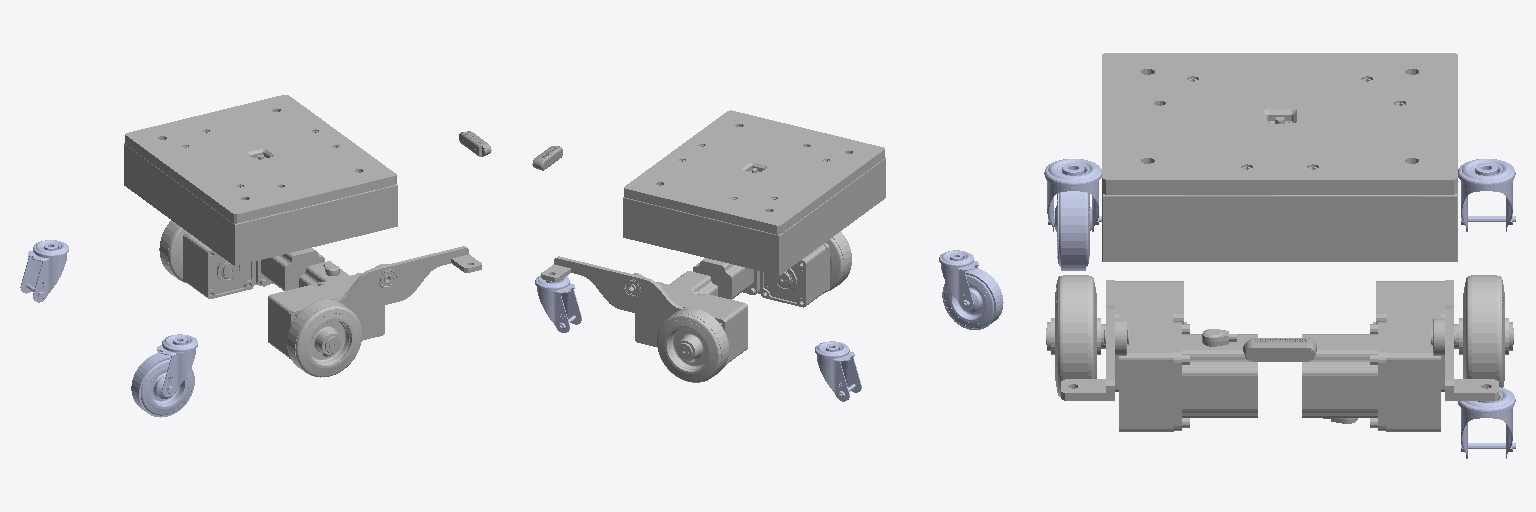
--- Facts derived from the render (not from the file) ---
3 views of the same robot in one strip: view 1: azimuth 30°, elevation 25°; view 2: azimuth 150°, elevation 25°; view 3: azimuth 270°, elevation 25° (orthographic).
Model smr100l_description with 18 links and 17 joints (2 revolute, 10 continuous, 1 prismatic, 4 fixed), rooted at base_link, posed all joints at 0.
Links seen in each view (by area): view 1: lifter_link, swing_arm_right_link, swing_arm_left_link, wheel_right_link, caster_rear_left_arm_link, caster_rear_left_wheel_link, caster_rear_right_arm_link, wheel_left_link; view 2: lifter_link, swing_arm_left_link, swing_arm_right_link, wheel_left_link, caster_rear_left_arm_link, caster_front_left_arm_link, caster_rear_right_arm_link, caster_rear_left_wheel_link, caster_rear_right_wheel_link, wheel_right_link; view 3: lifter_link, swing_arm_left_link, swing_arm_right_link, wheel_right_link, wheel_left_link, caster_rear_left_arm_link, caster_rear_right_arm_link, caster_rear_left_wheel_link, caster_front_left_arm_link, depthcam_link.
Boxes of the visible links, <box> form: lifter_link: <box>124,95,397,265</box>; swing_arm_right_link: <box>268,246,481,358</box>; swing_arm_left_link: <box>183,232,324,298</box>; wheel_right_link: <box>287,300,361,377</box>; caster_rear_left_arm_link: <box>20,240,68,302</box>; caster_rear_left_wheel_link: <box>131,352,194,417</box>; caster_rear_right_arm_link: <box>157,334,197,396</box>; wheel_left_link: <box>159,220,186,282</box>; lifter_link: <box>623,110,885,275</box>; swing_arm_left_link: <box>541,256,747,365</box>; swing_arm_right_link: <box>693,243,829,307</box>; wheel_left_link: <box>657,308,728,382</box>; caster_rear_left_arm_link: <box>815,341,861,401</box>; caster_front_left_arm_link: <box>535,275,581,332</box>; caster_rear_right_arm_link: <box>939,250,978,310</box>; caster_rear_left_wheel_link: <box>942,267,1003,328</box>; caster_rear_right_wheel_link: <box>942,269,1002,329</box>; wheel_right_link: <box>825,231,851,291</box>; lifter_link: <box>1102,53,1457,261</box>; swing_arm_left_link: <box>1302,280,1513,431</box>; swing_arm_right_link: <box>1046,280,1257,431</box>; wheel_right_link: <box>1051,275,1100,396</box>; wheel_left_link: <box>1459,275,1508,387</box>; caster_rear_left_arm_link: <box>1458,159,1515,231</box>; caster_rear_right_arm_link: <box>1044,159,1101,231</box>; caster_rear_left_wheel_link: <box>1054,191,1091,270</box>; caster_front_left_arm_link: <box>1458,387,1515,458</box>; depthcam_link: <box>1243,338,1316,361</box>.
Bounding box of the posed robot: 0.9171 × 0.57 × 0.3688 m (x, y, z).
Meshes: 18 distinct files referenced, 12 mesh visuals loaded (12 binary STL); not drawn: 6 (reference not matched to a file when rendering).

The robot description file, URDF, robot "smr100l_description":
<?xml version="1.0" encoding="utf-8"?>
<!-- This URDF was automatically created by SolidWorks to URDF Exporter! Originally created by Stephen Brawner ([email redacted]) 
     Commit Version: 1.5.1-0-g916b5db  Build Version: 1.5.7152.31018
     For more information, please see http://wiki.ros.org/sw_urdf_exporter -->
<robot
  name="smr100l_description">
  <link
    name="base_link">
    <inertial>
      <origin
        xyz="0.00759473196950907 -0.000701025729209086 0.207930392353386"
        rpy="0 0 0" />
      <mass
        value="28.1550787286733" />
      <inertia
        ixx="0.694735350757739"
        ixy="-6.21396000769804E-05"
        ixz="-0.293894422173057"
        iyy="2.10954451452673"
        iyz="-0.00299922708479352"
        izz="2.29931755100392" />
    </inertial>
    <visual>
      <origin
        xyz="0 0 0"
        rpy="0 0 0" />
      <geometry>
        <mesh
          filename="package://smr100l_description/meshes/base_link.STL" />
      </geometry>
      <material
        name="">
        <color
          rgba="0.792156862745098 0.819607843137255 0.933333333333333 1" />
      </material>
    </visual>
    <collision>
      <origin
        xyz="0 0 0"
        rpy="0 0 0" />
      <geometry>
        <mesh
          filename="package://smr100l_description/meshes/base_link.STL" />
      </geometry>
    </collision>
  </link>
  <link
    name="swing_arm_left_link">
    <inertial>
      <origin
        xyz="-0.0776614816273194 -0.0395409626032495 -0.064306996898901"
        rpy="0 0 0" />
      <mass
        value="9.18443575420952" />
      <inertia
        ixx="0.0373380519861051"
        ixy="0.000826956322669333"
        ixz="-0.0122689989948566"
        iyy="0.0718057334451598"
        iyz="-0.00504042222250094"
        izz="0.0845455374881779" />
    </inertial>
    <visual>
      <origin
        xyz="0 0 0"
        rpy="0 0 0" />
      <geometry>
        <mesh
          filename="package://smr100l_description/meshes/swing_arm_left_link.STL" />
      </geometry>
      <material
        name="">
        <color
          rgba="0.752941176470588 0.752941176470588 0.752941176470588 1" />
      </material>
    </visual>
    <collision>
      <origin
        xyz="0 0 0"
        rpy="0 0 0" />
      <geometry>
        <mesh
          filename="package://smr100l_description/meshes/swing_arm_left_link.STL" />
      </geometry>
    </collision>
  </link>
  <joint
    name="swing_arm_left_joint"
    type="revolute">
    <origin
      xyz="0.1625 0.1975 0.15"
      rpy="0 0 0" />
    <parent
      link="base_link" />
    <child
      link="swing_arm_left_link" />
    <axis
      xyz="0 1 0" />
    <limit
      lower="-0.122"
      upper="0.122"
      effort="0"
      velocity="0" />
  </joint>
  <link
    name="caster_front_left_arm_link">
    <inertial>
      <origin
        xyz="-0.00817031848504823 0.000139775533481046 -0.0246700758933405"
        rpy="0 0 0" />
      <mass
        value="0.0620885720640709" />
      <inertia
        ixx="7.49165862568441E-05"
        ixy="2.64435018518839E-07"
        ixz="-2.23835197101876E-05"
        iyy="7.67735900801278E-05"
        iyz="5.50677002994071E-07"
        izz="5.14581828446636E-05" />
    </inertial>
    <visual>
      <origin
        xyz="0 0 0"
        rpy="0 0 0" />
      <geometry>
        <mesh
          filename="package://smr100l_description/meshes/caster_front_left_arm_link.STL" />
      </geometry>
      <material
        name="">
        <color
          rgba="0.792156862745098 0.819607843137255 0.933333333333333 1" />
      </material>
    </visual>
    <collision>
      <origin
        xyz="0 0 0"
        rpy="0 0 0" />
      <geometry>
        <mesh
          filename="package://smr100l_description/meshes/caster_front_left_arm_link.STL" />
      </geometry>
    </collision>
  </link>
  <joint
    name="caster_front_left_arm_joint"
    type="continuous">
    <origin
      xyz="0.162499999999997 0.0525000000000055 -0.00100000000000022"
      rpy="0 0 0" />
    <parent
      link="swing_arm_left_link" />
    <child
      link="caster_front_left_arm_link" />
    <axis
      xyz="0 0 1" />
  </joint>
  <link
    name="caster_front_left_wheel_link">
    <inertial>
      <origin
        xyz="7.54416921294743E-09 -2.04920247437457E-11 2.56866883574514E-06"
        rpy="0 0 0" />
      <mass
        value="0.352528491588121" />
      <inertia
        ixx="0.000426471882410058"
        ixy="-3.85473691740274E-08"
        ixz="6.22475468311631E-10"
        iyy="0.000776732615948867"
        iyz="-2.68998304669092E-10"
        izz="0.000426518098385309" />
    </inertial>
    <visual>
      <origin
        xyz="0 0 0"
        rpy="0 0 0" />
      <geometry>
        <mesh
          filename="package://smr100l_description/meshes/caster_front_left_wheel_link.STL" />
      </geometry>
      <material
        name="">
        <color
          rgba="0.792156862745098 0.819607843137255 0.933333333333333 1" />
      </material>
    </visual>
    <collision>
      <origin
        xyz="0 0 0"
        rpy="0 0 0" />
      <geometry>
        <mesh
          filename="package://smr100l_description/meshes/caster_front_left_wheel_link.STL" />
      </geometry>
    </collision>
  </link>
  <joint
    name="caster_front_left_wheel_joint"
    type="continuous">
    <origin
      xyz="-0.0379999999999835 0 -0.0865000000000086"
      rpy="0 1.5707963267949 0" />
    <parent
      link="caster_front_left_arm_link" />
    <child
      link="caster_front_left_wheel_link" />
    <axis
      xyz="0 1 0" />
  </joint>
  <link
    name="wheel_left_link">
    <inertial>
      <origin
        xyz="9.26789477547346E-05 3.32621059475624E-05 5.72059504728774E-08"
        rpy="0 0 0" />
      <mass
        value="4.95544635923129" />
      <inertia
        ixx="0.00871854767879788"
        ixy="-2.85508395278412E-06"
        ixz="2.70527344298056E-08"
        iyy="0.0157098593873516"
        iyz="-4.32877125311461E-09"
        izz="0.00872719589164137" />
    </inertial>
    <visual>
      <origin
        xyz="0 0 0"
        rpy="0 0 0" />
      <geometry>
        <mesh
          filename="package://smr100l_description/meshes/wheel_left_link.STL" />
      </geometry>
      <material
        name="">
        <color
          rgba="0.792156862745098 0.792156862745098 0.792156862745098 1" />
      </material>
    </visual>
    <collision>
      <origin
        xyz="0 0 0"
        rpy="0 0 0" />
      <geometry>
        <mesh
          filename="package://smr100l_description/meshes/wheel_left_link.STL" />
      </geometry>
    </collision>
  </link>
  <joint
    name="wheel_left_joint"
    type="continuous">
    <origin
      xyz="-0.1625 0.0495 -0.075"
      rpy="0 1.5708 0" />
    <parent
      link="swing_arm_left_link" />
    <child
      link="wheel_left_link" />
    <axis
      xyz="0 1 0" />
  </joint>
  <link
    name="swing_arm_right_link">
    <inertial>
      <origin
        xyz="-0.0776665293804929 0.0395418680626045 -0.0640244709559404"
        rpy="0 0 0" />
      <mass
        value="9.18423950420952" />
      <inertia
        ixx="0.0372801020470263"
        ixy="-0.000828920894039237"
        ixz="-0.0123404312816355"
        iyy="0.0717371511093358"
        iyz="0.0048289719106849"
        izz="0.0845342002890425" />
    </inertial>
    <visual>
      <origin
        xyz="0 0 0"
        rpy="0 0 0" />
      <geometry>
        <mesh
          filename="package://smr100l_description/meshes/swing_arm_right_link.STL" />
      </geometry>
      <material
        name="">
        <color
          rgba="0.752941176470588 0.752941176470588 0.752941176470588 1" />
      </material>
    </visual>
    <collision>
      <origin
        xyz="0 0 0"
        rpy="0 0 0" />
      <geometry>
        <mesh
          filename="package://smr100l_description/meshes/swing_arm_right_link.STL" />
      </geometry>
    </collision>
  </link>
  <joint
    name="swing_arm_right_joint"
    type="revolute">
    <origin
      xyz="0.1625 -0.1975 0.15"
      rpy="0 0 0" />
    <parent
      link="base_link" />
    <child
      link="swing_arm_right_link" />
    <axis
      xyz="0 1 0" />
    <limit
      lower="-0.122"
      upper="0.122"
      effort="0"
      velocity="0" />
  </joint>
  <link
    name="caster_front_right_arm_link">
    <inertial>
      <origin
        xyz="-0.00817031849669997 0.000139775509992363 -0.0246700759274692"
        rpy="0 0 0" />
      <mass
        value="0.0620885720820533" />
      <inertia
        ixx="7.4916586344645E-05"
        ixy="2.64434990167658E-07"
        ixz="-2.23835197563072E-05"
        iyy="7.67735901790732E-05"
        iyz="5.50676965248215E-07"
        izz="5.14581828745683E-05" />
    </inertial>
    <visual>
      <origin
        xyz="0 0 0"
        rpy="0 0 0" />
      <geometry>
        <mesh
          filename="package://smr100l_description/meshes/caster_front_right_arm_link.STL" />
      </geometry>
      <material
        name="">
        <color
          rgba="0.792156862745098 0.819607843137255 0.933333333333333 1" />
      </material>
    </visual>
    <collision>
      <origin
        xyz="0 0 0"
        rpy="0 0 0" />
      <geometry>
        <mesh
          filename="package://smr100l_description/meshes/caster_front_right_arm_link.STL" />
      </geometry>
    </collision>
  </link>
  <joint
    name="caster_front_right_arm_joint"
    type="continuous">
    <origin
      xyz="0.162500000000005 -0.0524999999999932 -0.001"
      rpy="0 0 0" />
    <parent
      link="swing_arm_right_link" />
    <child
      link="caster_front_right_arm_link" />
    <axis
      xyz="0 0 1" />
  </joint>
  <link
    name="caster_front_right_wheel_link">
    <inertial>
      <origin
        xyz="7.54774100858446E-09 5.16330866950909E-11 2.56865609338242E-06"
        rpy="0 0 0" />
      <mass
        value="0.352528489887363" />
      <inertia
        ixx="0.000426471881495556"
        ixy="-3.85473926465665E-08"
        ixz="6.22533069285731E-10"
        iyy="0.000776732615482017"
        iyz="-2.69300778723136E-10"
        izz="0.000426518097722264" />
    </inertial>
    <visual>
      <origin
        xyz="0 0 0"
        rpy="0 0 0" />
      <geometry>
        <mesh
          filename="package://smr100l_description/meshes/caster_front_right_wheel_link.STL" />
      </geometry>
      <material
        name="">
        <color
          rgba="0.792156862745098 0.819607843137255 0.933333333333333 1" />
      </material>
    </visual>
    <collision>
      <origin
        xyz="0 0 0"
        rpy="0 0 0" />
      <geometry>
        <mesh
          filename="package://smr100l_description/meshes/caster_front_right_wheel_link.STL" />
      </geometry>
    </collision>
  </link>
  <joint
    name="caster_front_right_wheel_joint"
    type="continuous">
    <origin
      xyz="-0.0379999999999961 0 -0.0865000000000046"
      rpy="0 1.5707963267949 0" />
    <parent
      link="caster_front_right_arm_link" />
    <child
      link="caster_front_right_wheel_link" />
    <axis
      xyz="0 1 0" />
  </joint>
  <link
    name="wheel_right_link">
    <inertial>
      <origin
        xyz="9.26789475841489E-05 -3.32621060119553E-05 -5.72059103568804E-08"
        rpy="0 0 0" />
      <mass
        value="4.95544635924954" />
      <inertia
        ixx="0.00871854767880613"
        ixy="2.85508393702444E-06"
        ixz="-2.70527246089045E-08"
        iyy="0.0157098593873957"
        iyz="-4.32876754653911E-09"
        izz="0.00872719589168907" />
    </inertial>
    <visual>
      <origin
        xyz="0 0 0"
        rpy="0 0 0" />
      <geometry>
        <mesh
          filename="package://smr100l_description/meshes/wheel_right_link.STL" />
      </geometry>
      <material
        name="">
        <color
          rgba="0.792156862745098 0.792156862745098 0.792156862745098 1" />
      </material>
    </visual>
    <collision>
      <origin
        xyz="0 0 0"
        rpy="0 0 0" />
      <geometry>
        <mesh
          filename="package://smr100l_description/meshes/wheel_right_link.STL" />
      </geometry>
    </collision>
  </link>
  <joint
    name="wheel_right_joint"
    type="continuous">
    <origin
      xyz="-0.1625 -0.0495 -0.075"
      rpy="0 1.5708 0" />
    <parent
      link="swing_arm_right_link" />
    <child
      link="wheel_right_link" />
    <axis
      xyz="0 1 0" />
  </joint>
  <link
    name="caster_rear_left_arm_link">
    <inertial>
      <origin
        xyz="-0.00817031850326078 0.00013977551742686 -0.0246700759265024"
        rpy="0 0 0" />
      <mass
        value="0.062088572117153" />
      <inertia
        ixx="7.49165863571816E-05"
        ixy="2.64434995969005E-07"
        ixz="-2.23835197549165E-05"
        iyy="7.67735901860121E-05"
        iyz="5.50676963526498E-07"
        izz="5.14581828901011E-05" />
    </inertial>
    <visual>
      <origin
        xyz="0 0 0"
        rpy="0 0 0" />
      <geometry>
        <mesh
          filename="package://smr100l_description/meshes/caster_rear_left_arm_link.STL" />
      </geometry>
      <material
        name="">
        <color
          rgba="0.792156862745098 0.819607843137255 0.933333333333333 1" />
      </material>
    </visual>
    <collision>
      <origin
        xyz="0 0 0"
        rpy="0 0 0" />
      <geometry>
        <mesh
          filename="package://smr100l_description/meshes/caster_rear_left_arm_link.STL" />
      </geometry>
    </collision>
  </link>
  <joint
    name="caster_rear_left_arm_joint"
    type="continuous">
    <origin
      xyz="-0.324999999999999 0.249999999999734 0.149"
      rpy="0 0 0" />
    <parent
      link="base_link" />
    <child
      link="caster_rear_left_arm_link" />
    <axis
      xyz="0 0 1" />
  </joint>
  <link
    name="caster_rear_left_wheel_link">
    <inertial>
      <origin
        xyz="7.54960193666276E-09 -0.499999999947538 2.56865689007846E-06"
        rpy="0 0 0" />
      <mass
        value="0.35252848990743" />
      <inertia
        ixx="0.000426471881504283"
        ixy="-3.85474028321326E-08"
        ixz="6.22523274154767E-10"
        iyy="0.000776732615509076"
        iyz="-2.6930513796899E-10"
        izz="0.000426518097749667" />
    </inertial>
    <visual>
      <origin
        xyz="0 0 0"
        rpy="0 0 0" />
      <geometry>
        <mesh
          filename="package://smr100l_description/meshes/caster_rear_left_wheel_link.STL" />
      </geometry>
      <material
        name="">
        <color
          rgba="0.792156862745098 0.819607843137255 0.933333333333333 1" />
      </material>
    </visual>
    <collision>
      <origin
        xyz="0 0 0"
        rpy="0 0 0" />
      <geometry>
        <mesh
          filename="package://smr100l_description/meshes/caster_rear_left_wheel_link.STL" />
      </geometry>
    </collision>
  </link>
  <joint
    name="caster_rear_left_wheel_joint"
    type="continuous">
    <origin
      xyz="-0.0379999999999835 0 -0.0864999999999982"
      rpy="0 1.5707963267949 0" />
    <parent
      link="caster_rear_left_arm_link" />
    <child
      link="caster_rear_left_wheel_link" />
    <axis
      xyz="0 1 0" />
  </joint>
  <link
    name="caster_rear_right_arm_link">
    <inertial>
      <origin
        xyz="-0.00817031850606931 0.000139775521451196 -0.0246700759261809"
        rpy="0 0 0" />
      <mass
        value="0.0620885721317263" />
      <inertia
        ixx="7.49165863625248E-05"
        ixy="2.64434999129066E-07"
        ixz="-2.23835197543855E-05"
        iyy="7.67735901889776E-05"
        iyz="5.50676962709383E-07"
        izz="5.14581828968603E-05" />
    </inertial>
    <visual>
      <origin
        xyz="0 0 0"
        rpy="0 0 0" />
      <geometry>
        <mesh
          filename="package://smr100l_description/meshes/caster_rear_right_arm_link.STL" />
      </geometry>
      <material
        name="">
        <color
          rgba="0.792156862745098 0.819607843137255 0.933333333333333 1" />
      </material>
    </visual>
    <collision>
      <origin
        xyz="0 0 0"
        rpy="0 0 0" />
      <geometry>
        <mesh
          filename="package://smr100l_description/meshes/caster_rear_right_arm_link.STL" />
      </geometry>
    </collision>
  </link>
  <joint
    name="caster_rear_right_arm_joint"
    type="continuous">
    <origin
      xyz="-0.324999999999996 -0.250000000000266 0.149"
      rpy="0 0 0" />
    <parent
      link="base_link" />
    <child
      link="caster_rear_right_arm_link" />
    <axis
      xyz="0 0 1" />
  </joint>
  <link
    name="caster_rear_right_wheel_link">
    <inertial>
      <origin
        xyz="7.54960197829613E-09 5.24615628716418E-11 2.56865688996744E-06"
        rpy="0 0 0" />
      <mass
        value="0.35252848990743" />
      <inertia
        ixx="0.000426471881504283"
        ixy="-3.85474028321326E-08"
        ixz="6.22523274154767E-10"
        iyy="0.000776732615509076"
        iyz="-2.69305137969016E-10"
        izz="0.000426518097749667" />
    </inertial>
    <visual>
      <origin
        xyz="0 0 0"
        rpy="0 0 0" />
      <geometry>
        <mesh
          filename="package://smr100l_description/meshes/caster_rear_right_wheel_link.STL" />
      </geometry>
      <material
        name="">
        <color
          rgba="0.792156862745098 0.819607843137255 0.933333333333333 1" />
      </material>
    </visual>
    <collision>
      <origin
        xyz="0 0 0"
        rpy="0 0 0" />
      <geometry>
        <mesh
          filename="package://smr100l_description/meshes/caster_rear_right_wheel_link.STL" />
      </geometry>
    </collision>
  </link>
  <joint
    name="caster_rear_right_wheel_joint"
    type="continuous">
    <origin
      xyz="-0.0379999999999961 0 -0.0864999999999942"
      rpy="0 1.5707963267949 0" />
    <parent
      link="caster_rear_right_arm_link" />
    <child
      link="caster_rear_right_wheel_link" />
    <axis
      xyz="0 1 0" />
  </joint>
  <link
    name="lidar_front_right_link">
    <inertial>
      <origin
        xyz="-0.000148096974669887 -3.2068342457614E-06 -0.0125826297979668"
        rpy="0 0 0" />
      <mass
        value="0.0481184286647859" />
      <inertia
        ixx="3.45484479551428E-05"
        ixy="-2.64598097532111E-09"
        ixz="-7.25415866375645E-08"
        iyy="3.46541328542382E-05"
        iyz="-1.62817624871116E-09"
        izz="5.23974453696245E-05" />
    </inertial>
    <visual>
      <origin
        xyz="0 0 0"
        rpy="0 0 0" />
      <geometry>
        <mesh
          filename="package://smr100l_description/meshes/lidar_front_right_link.STL" />
      </geometry>
      <material
        name="">
        <color
          rgba="0.498039215686275 0.498039215686275 0.498039215686275 1" />
      </material>
    </visual>
    <collision>
      <origin
        xyz="0 0 0"
        rpy="0 0 0" />
      <geometry>
        <mesh
          filename="package://smr100l_description/meshes/lidar_front_right_link.STL" />
      </geometry>
    </collision>
  </link>
  <joint
    name="lidar_front_right_joint"
    type="fixed">
    <origin
      xyz="0.440000000000006 -0.233500000000266 0.23335"
      rpy="0 0 0" />
    <parent
      link="base_link" />
    <child
      link="lidar_front_right_link" />
    <axis
      xyz="0 0 0" />
  </joint>
  <link
    name="lidar_rear_left_link">
    <inertial>
      <origin
        xyz="-0.000148095336834408 -3.20011052482028E-06 -0.0125826289547249"
        rpy="0 0 0" />
      <mass
        value="0.0481184302326393" />
      <inertia
        ixx="3.4548448557701E-05"
        ixy="-2.64868061332515E-09"
        ixz="-7.25417653009774E-08"
        iyy="3.46541307674242E-05"
        iyz="-1.62695057108891E-09"
        izz="5.23974446839416E-05" />
    </inertial>
    <visual>
      <origin
        xyz="0 0 0"
        rpy="0 0 0" />
      <geometry>
        <mesh
          filename="package://smr100l_description/meshes/lidar_rear_left_link.STL" />
      </geometry>
      <material
        name="">
        <color
          rgba="0.498039215686275 0.498039215686275 0.498039215686275 1" />
      </material>
    </visual>
    <collision>
      <origin
        xyz="0 0 0"
        rpy="0 0 0" />
      <geometry>
        <mesh
          filename="package://smr100l_description/meshes/lidar_rear_left_link.STL" />
      </geometry>
    </collision>
  </link>
  <joint
    name="lidar_rear_left_joint"
    type="fixed">
    <origin
      xyz="-0.44 0.2335 0.23335"
      rpy="0 0 -3.1416" />
    <parent
      link="base_link" />
    <child
      link="lidar_rear_left_link" />
    <axis
      xyz="0 0 0" />
  </joint>
  <link
    name="imu_link">
    <inertial>
      <origin
        xyz="-6.93505865298019E-05 2.10656642645446E-05 -0.001722725779644"
        rpy="0 0 0" />
      <mass
        value="0.000911356888660498" />
      <inertia
        ixx="2.85410348210611E-08"
        ixy="-2.22197427856955E-10"
        ixz="7.87903579180657E-11"
        iyy="4.9934643360849E-08"
        iyz="-4.13194761846969E-11"
        izz="7.78569805080499E-08" />
    </inertial>
    <visual>
      <origin
        xyz="0 0 0"
        rpy="0 0 0" />
      <geometry>
        <mesh
          filename="package://smr100l_description/meshes/imu_link.STL" />
      </geometry>
      <material
        name="">
        <color
          rgba="0.792156862745098 0.819607843137255 0.933333333333333 1" />
      </material>
    </visual>
    <collision>
      <origin
        xyz="0 0 0"
        rpy="0 0 0" />
      <geometry>
        <mesh
          filename="package://smr100l_description/meshes/imu_link.STL" />
      </geometry>
    </collision>
  </link>
  <joint
    name="imu_joint"
    type="fixed">
    <origin
      xyz="4.50000000024337E-05 0.000119999999742196 0.210000000000001"
      rpy="0 0 0" />
    <parent
      link="base_link" />
    <child
      link="imu_link" />
    <axis
      xyz="0 0 0" />
  </joint>
  <link
    name="depthcam_link">
    <inertial>
      <origin
        xyz="0.00150774564524087 0.0014060246130252 0.0124765926772498"
        rpy="0 0 0" />
      <mass
        value="0.0364722975832015" />
      <inertia
        ixx="2.34030280913361E-05"
        ixy="2.10290936540947E-07"
        ixz="1.01548325628649E-08"
        iyy="3.50609041662243E-06"
        iyz="1.72382791671337E-09"
        izz="2.36116348761219E-05" />
    </inertial>
    <visual>
      <origin
        xyz="0 0 0"
        rpy="0 0 0" />
      <geometry>
        <mesh
          filename="package://smr100l_description/meshes/depthcam_link.STL" />
      </geometry>
      <material
        name="">
        <color
          rgba="0.701960784313725 0.701960784313725 0.701960784313725 1" />
      </material>
    </visual>
    <collision>
      <origin
        xyz="0 0 0"
        rpy="0 0 0" />
      <geometry>
        <mesh
          filename="package://smr100l_description/meshes/depthcam_link.STL" />
      </geometry>
    </collision>
  </link>
  <joint
    name="depthcam_joint"
    type="fixed">
    <origin
      xyz="0.476732627888839 0 0.2675"
      rpy="0 0 0" />
    <parent
      link="base_link" />
    <child
      link="depthcam_link" />
    <axis
      xyz="0 0 0" />
  </joint>
  <link
    name="lifter_link">
    <inertial>
      <origin
        xyz="3.25632664729974E-05 0.00011879601216699 -0.0165650988158963"
        rpy="0 0 0" />
      <mass
        value="28.8633842413996" />
      <inertia
        ixx="0.464199941953465"
        ixy="0.000162736007880683"
        ixz="-1.3222231656386E-06"
        iyy="0.345046110863771"
        iyz="8.98295045138445E-07"
        izz="0.790316361239543" />
    </inertial>
    <visual>
      <origin
        xyz="0 0 0"
        rpy="0 0 0" />
      <geometry>
        <mesh
          filename="package://smr100l_description/meshes/lifter_link.STL" />
      </geometry>
      <material
        name="">
        <color
          rgba="0.752941176470588 0.752941176470588 0.752941176470588 1" />
      </material>
    </visual>
    <collision>
      <origin
        xyz="0 0 0"
        rpy="0 0 0" />
      <geometry>
        <mesh
          filename="package://smr100l_description/meshes/lifter_link.STL" />
      </geometry>
    </collision>
  </link>
  <joint
    name="lifter_joint"
    type="prismatic">
    <origin
      xyz="0 0 0.369"
      rpy="0 0 0" />
    <parent
      link="base_link" />
    <child
      link="lifter_link" />
    <axis
      xyz="0 0 1" />
    <limit
      lower="0"
      upper="0.05"
      effort="1000"
      velocity="0.00833" />
  </joint>
</robot>
